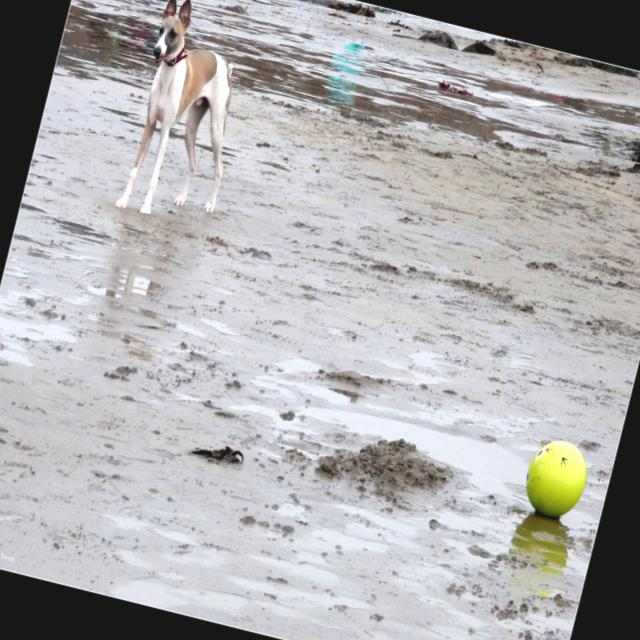Tennis ball: (519, 432, 595, 522)
